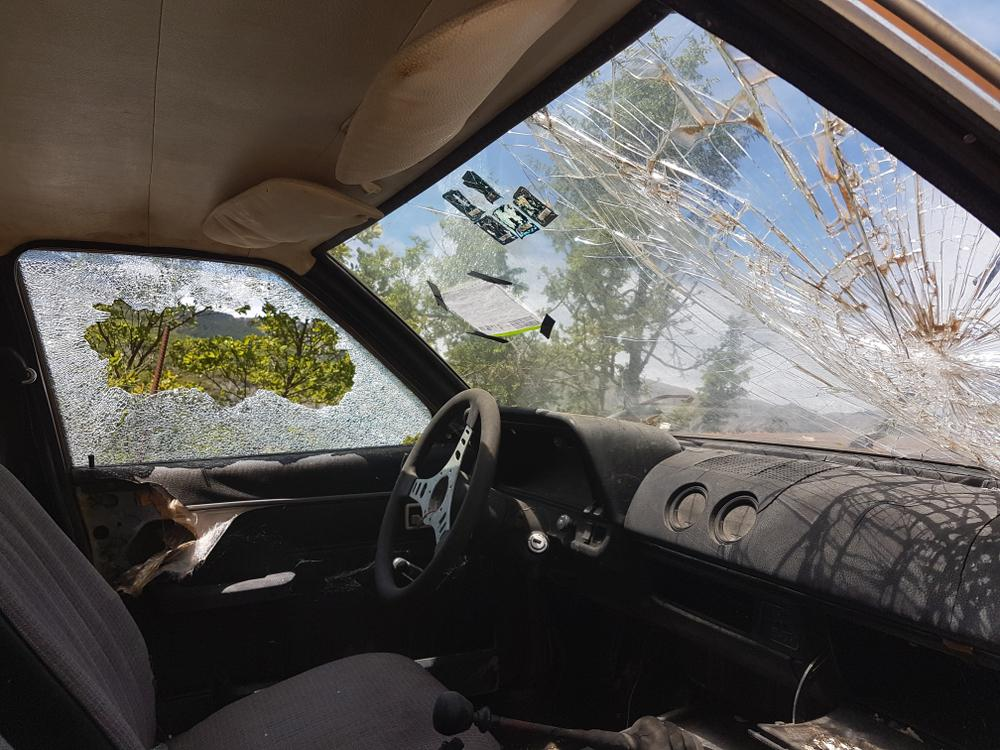glass shatter: (329, 12, 1000, 471), (18, 250, 434, 468)
